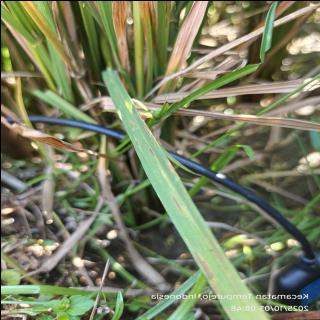Bercak-Cokelat-Sempit: (169, 192, 185, 214), (147, 146, 155, 158), (132, 138, 141, 148), (143, 126, 150, 136), (137, 111, 144, 121), (128, 121, 134, 129), (149, 139, 155, 145), (130, 106, 135, 113)
